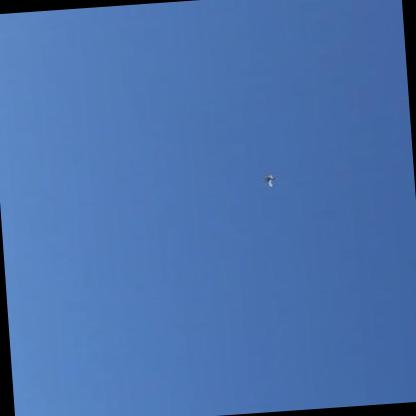plane: (262, 174, 275, 190)
